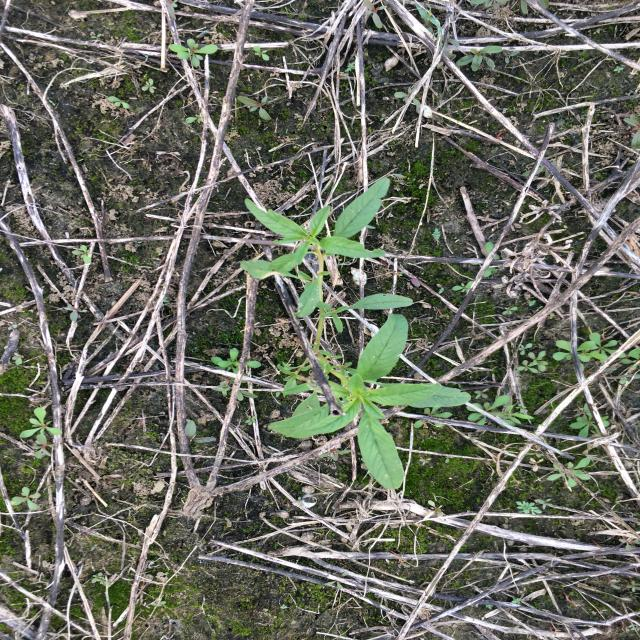Carpetweed: (550, 331, 638, 377), (459, 396, 537, 434), (161, 33, 221, 69), (14, 406, 64, 449), (565, 400, 614, 440), (548, 452, 597, 490), (515, 341, 552, 378)
Waterhemp: (237, 176, 474, 492)
